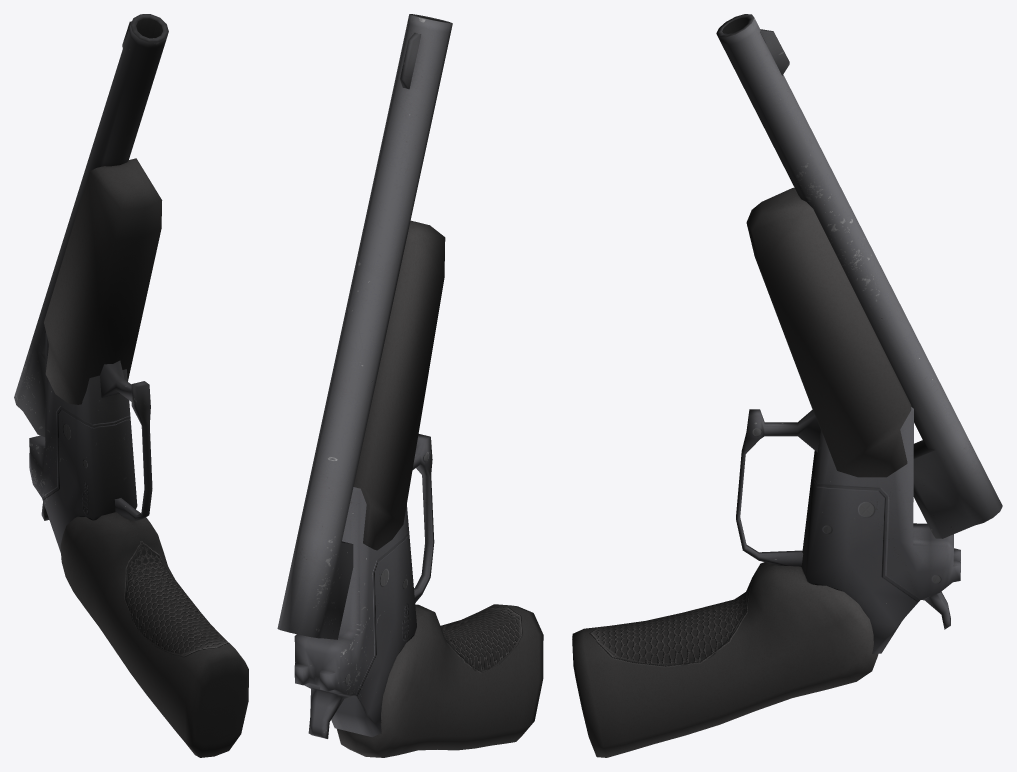
The model's file is TLOG_HuntingPistol_open.fbx.
3 renders of one model, left to right at view 1: azimuth 30°, elevation 25°; view 2: azimuth 150°, elevation 25°; view 3: azimuth 270°, elevation 25°, orthographic. The views are drawn at different scales.
Parts seen in each view (by area): view 1: handle.001; view 2: handle.001; view 3: handle.001.
Part boxes in pixels (x1,y1,x2,y2): handle.001: (14, 14, 248, 757); handle.001: (277, 14, 543, 757); handle.001: (572, 14, 1002, 757).
Size of the model in its own units: 0.0238 by 0.254 by 0.1349.
